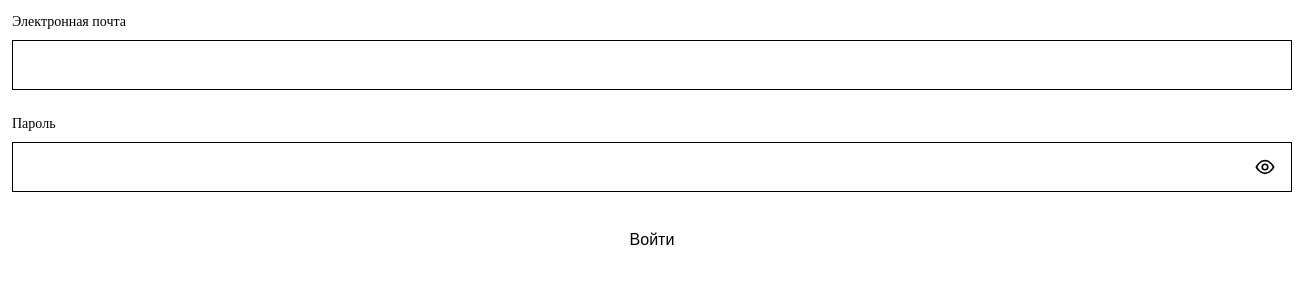
LoginForm › has accessible email/password fields and reports a generic login error
Type "admin@example.com" into the field labelled "Электронная почта" at (652,65), box [12,40,1292,90]
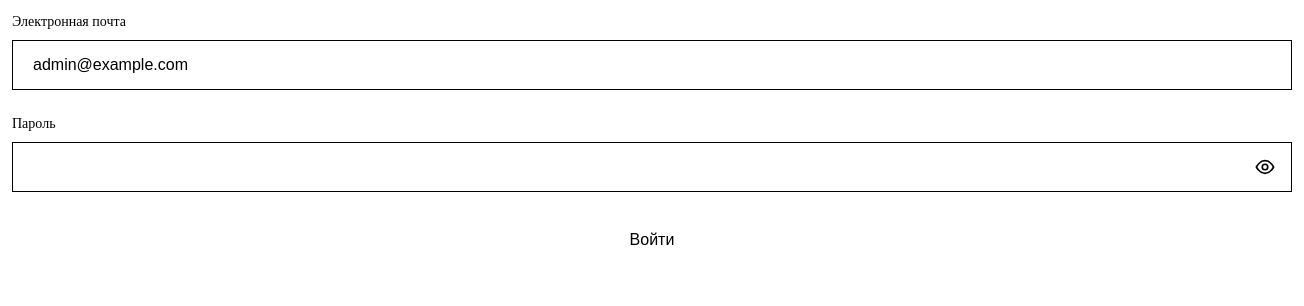
Type "wrong-password-value" into the password field labelled "Пароль" at (652,167), box [12,142,1292,192]
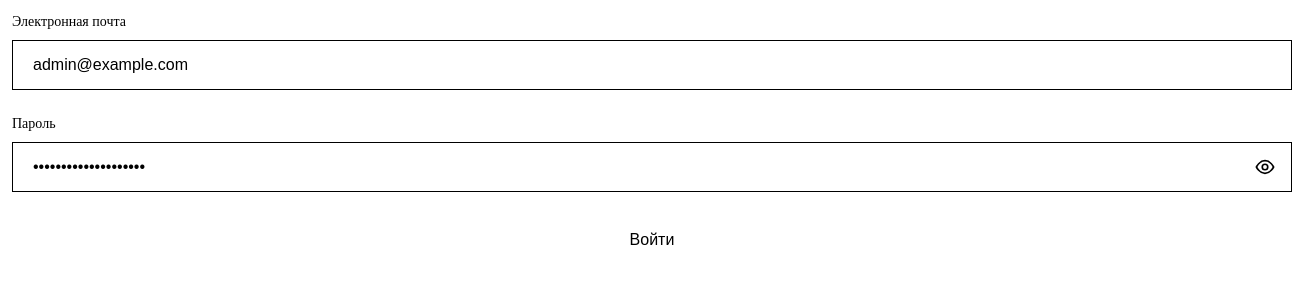
Submit the form labelled "Пароль"
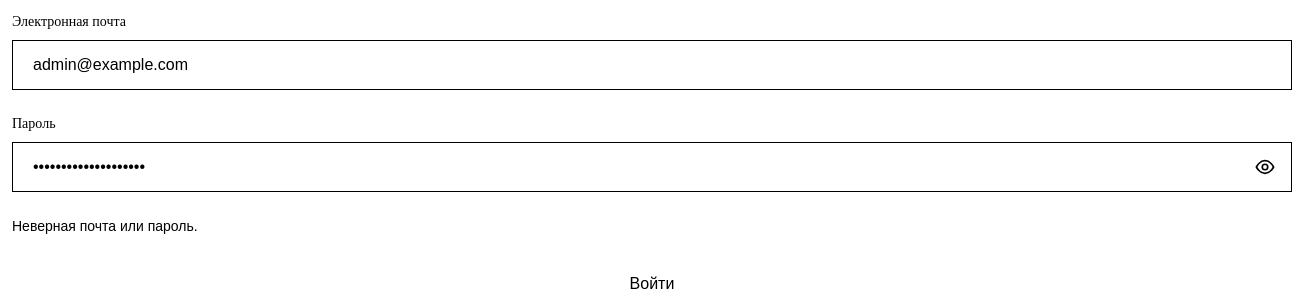
Check: the message reads "Неверная почта или пароль.", box [12,218,198,234]
